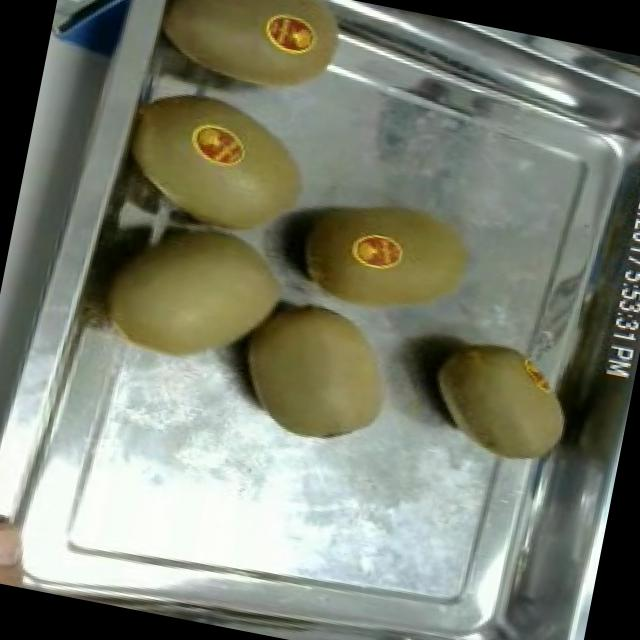Fruit: (111, 73, 338, 263), (87, 205, 306, 387), (275, 164, 495, 342), (223, 286, 407, 458), (411, 322, 592, 480), (143, 0, 347, 121), (0, 498, 59, 592)
